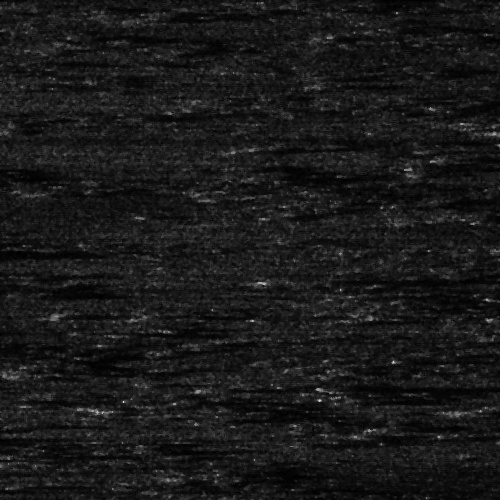object: (433, 211, 500, 222), (134, 446, 187, 451), (472, 126, 500, 135), (319, 386, 360, 389), (0, 453, 24, 458)
shadow: (0, 242, 47, 261), (161, 446, 271, 451), (339, 386, 496, 389), (0, 453, 67, 458), (470, 211, 500, 222)
